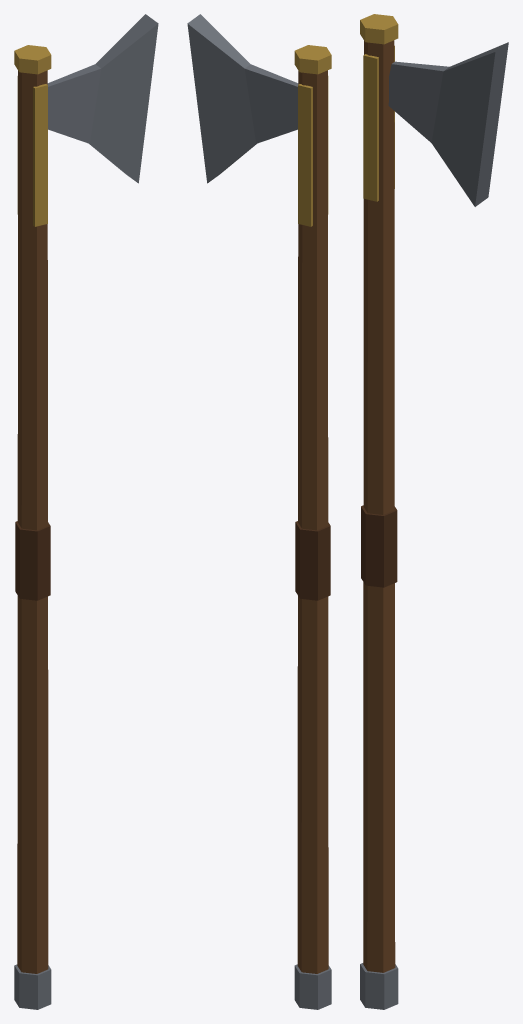
File: weapon_naginata.glb
The picture shows the model from 3 angles, left to right: view 1: azimuth 30°, elevation 25°; view 2: azimuth 150°, elevation 25°; view 3: azimuth 330°, elevation 25°; orthographic projection. The views are drawn at different scales.
Parts seen in each view (by area): view 1: dwarf_weapon_naginata; view 2: dwarf_weapon_naginata; view 3: dwarf_weapon_naginata.
Part boxes in pixels (left/top/right/bottom): dwarf_weapon_naginata: left=14, top=14, right=158, bottom=1009; dwarf_weapon_naginata: left=187, top=14, right=331, bottom=1009; dwarf_weapon_naginata: left=360, top=14, right=508, bottom=1009.
Size of the model in its own units: 0.2449 by 1.65 by 0.058.
